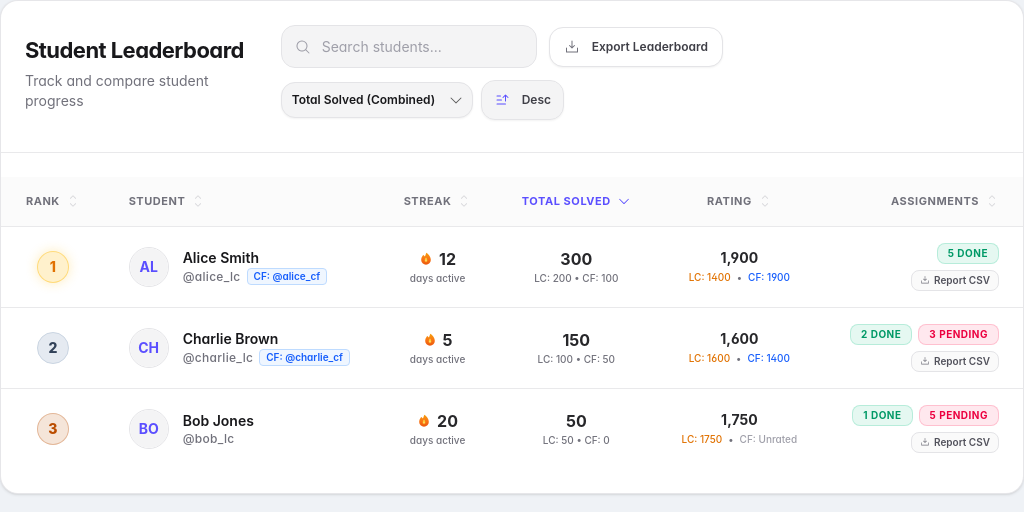
LeaderboardTable Sorting Functionality › filters students by search query while maintaining sort order
Type "alice" into the field with placeholder "Search students..." at (409, 46), box [281,25,537,68]
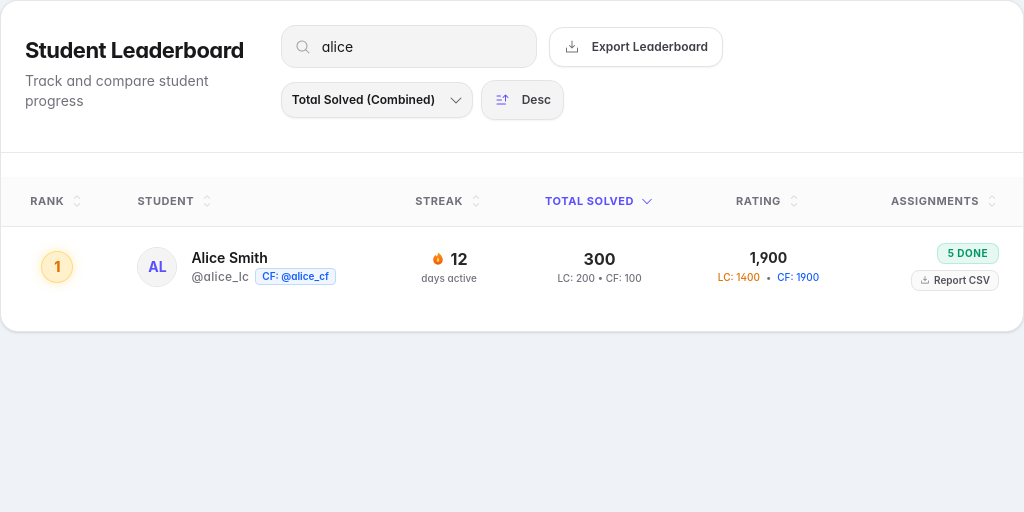
Check: the text "Alice Smith" is shown, box [191,249,268,266]
Check: the text "Bob Jones" is gone
Check: the text "Charlie Brown" is gone
